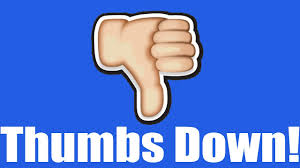thumbs_up: (87, 13, 296, 141)
